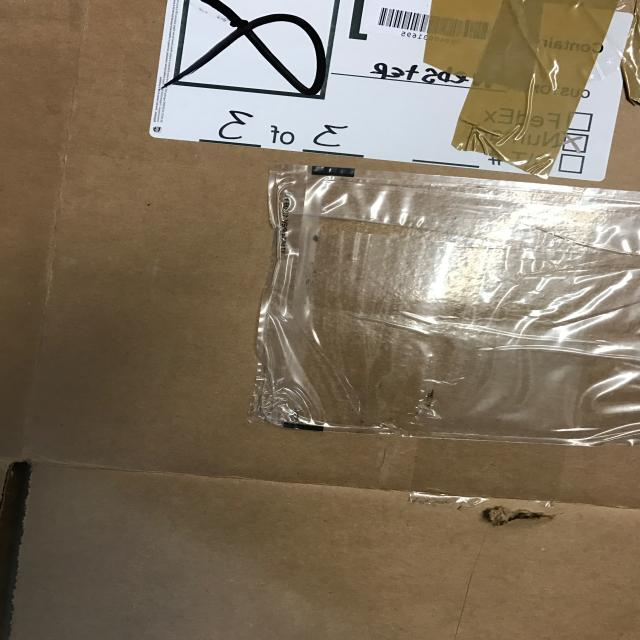cardboard: (249, 163, 640, 448)
